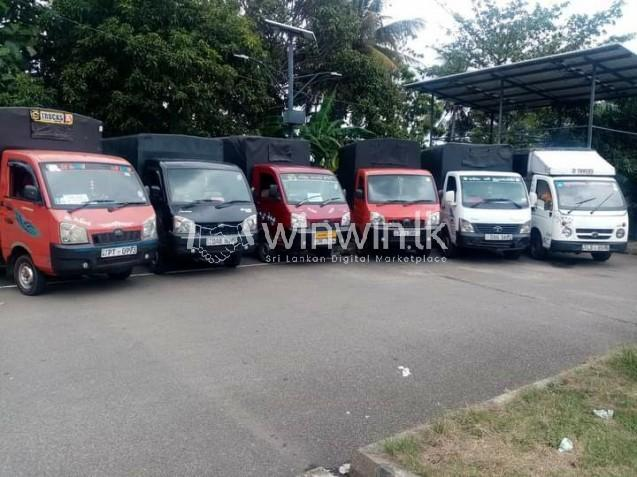truck: (1, 106, 158, 298), (102, 132, 259, 275), (222, 134, 352, 262), (513, 146, 627, 263), (336, 137, 443, 254), (421, 144, 531, 255)
